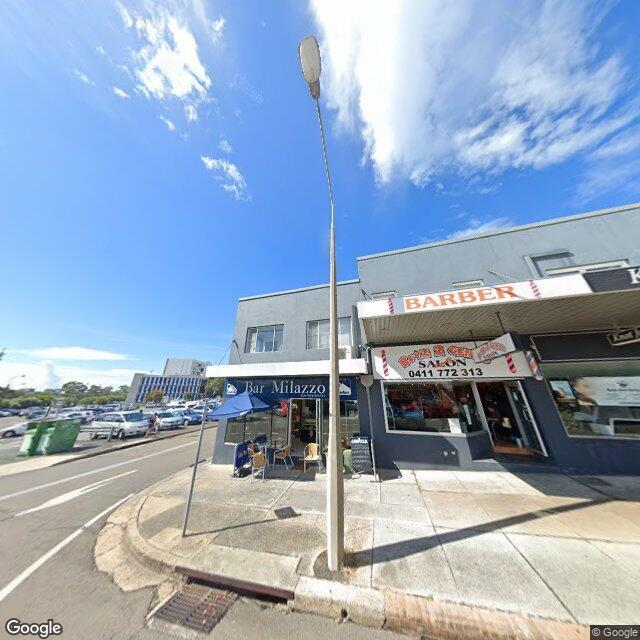steel-pole: (328, 206, 345, 572)
streetlight: (298, 35, 334, 205)
